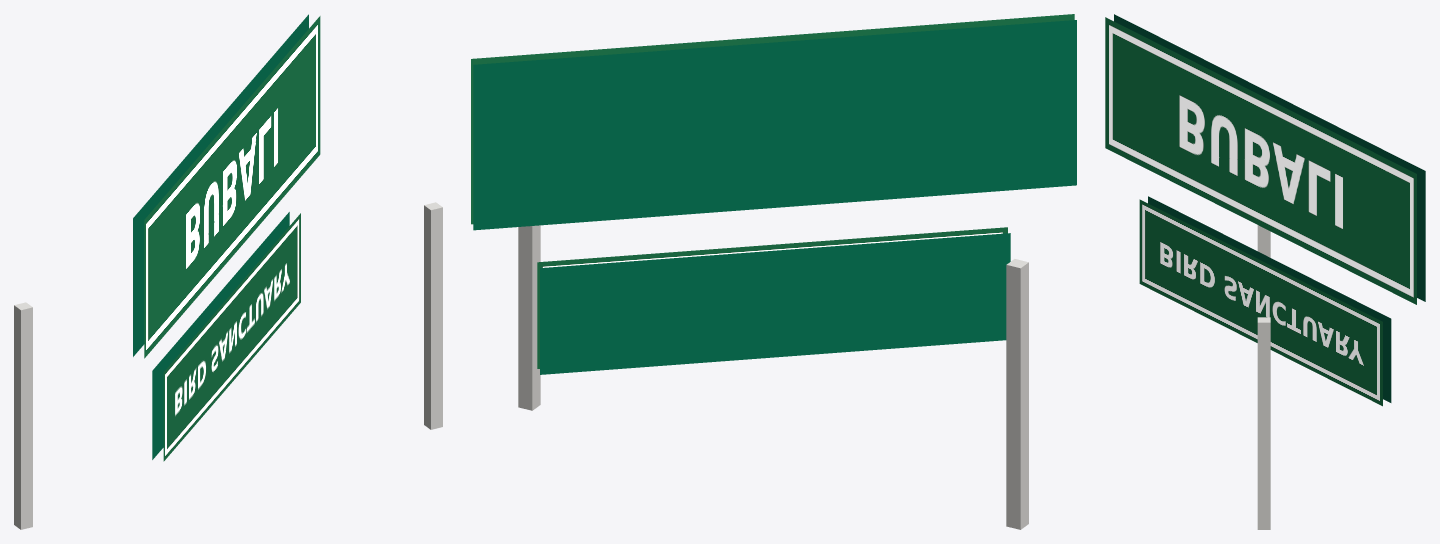
The model's file is bubali_board.glb.
3 renders of one model, left to right at view 1: azimuth 30°, elevation 25°; view 2: azimuth 150°, elevation 25°; view 3: azimuth 270°, elevation 25°, orthographic. The views are drawn at different scales.
Parts seen in each view (by area): view 1: bubali_board_lod0; view 2: bubali_board_lod0; view 3: bubali_board_lod0.
Boxes of the visible parts, x1=… form: bubali_board_lod0: x1=14, y1=14, x2=442, y2=529; bubali_board_lod0: x1=471, y1=14, x2=1076, y2=529; bubali_board_lod0: x1=1105, y1=14, x2=1425, y2=529.
Size of what is drawn, in the model's own units: 4.92 by 4 by 3.43.
Materials: 4 (2 with a texture image).
